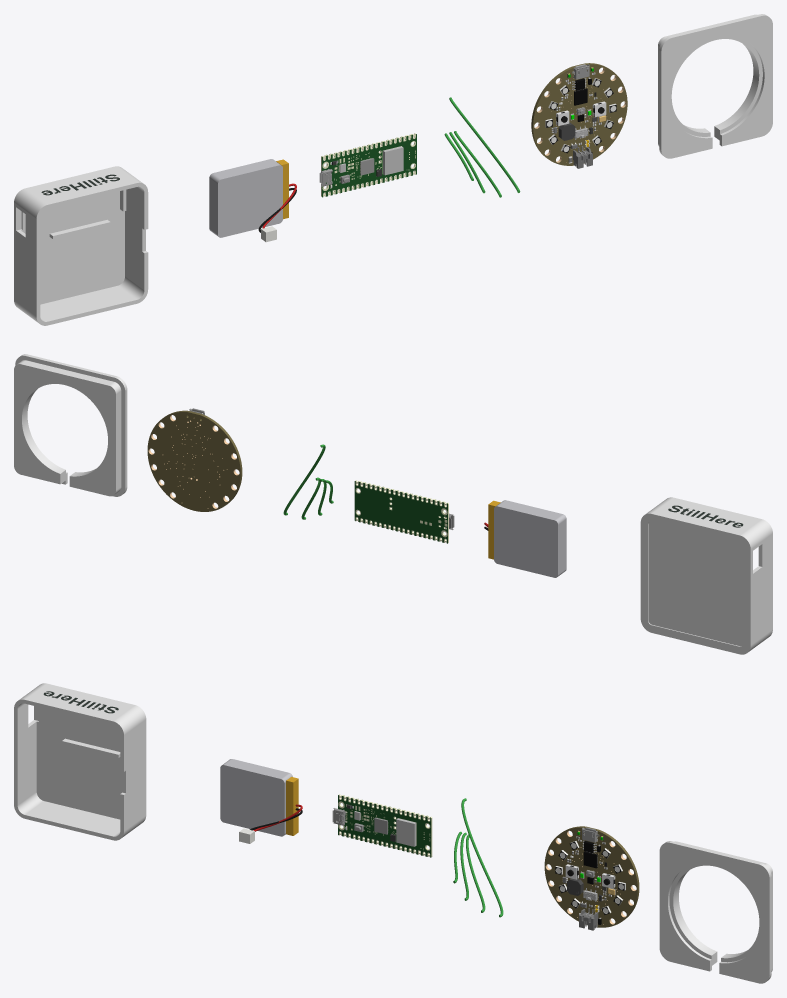
Rendered from StillHere_Exploded.obj.
3 views of the same model, one above another, from view 1: azimuth 30°, elevation 25°; view 2: azimuth 150°, elevation 25°; view 3: azimuth 330°, elevation 25° (orthographic).
Parts seen in each view (by area): view 1: Case_Base, Case_Lid, Body1:11, LiPo_Cell, Body1, Body1:1, Body1:5; view 2: Case_Base, Case_Lid, Body1:11, LiPo_Cell, Body1:2, Body1:1; view 3: Case_Base, Case_Lid, Body1:11, LiPo_Cell, Body1, Body1:1, LiPo_ProtectionBoard, Body1:5.
Boxes of the visible parts, x1,y1,x2,y2 form: Case_Base: [14, 166, 148, 325]; Case_Lid: [658, 14, 772, 158]; Body1:11: [531, 63, 627, 165]; LiPo_Cell: [209, 159, 282, 237]; Body1: [322, 134, 416, 197]; Body1:1: [321, 133, 415, 197]; Body1:5: [383, 146, 403, 175]; Case_Base: [640, 497, 772, 654]; Case_Lid: [14, 354, 127, 496]; Body1:11: [147, 410, 242, 511]; LiPo_Cell: [494, 500, 566, 577]; Body1:2: [354, 481, 447, 543]; Body1:1: [355, 480, 448, 543]; Case_Base: [14, 683, 146, 840]; Case_Lid: [659, 841, 772, 983]; Body1:11: [544, 826, 639, 927]; LiPo_Cell: [220, 759, 292, 836]; Body1: [338, 795, 431, 857]; Body1:1: [338, 794, 432, 857]; LiPo_ProtectionBoard: [286, 777, 298, 835]; Body1:5: [396, 818, 416, 846].
Size of the model in its own units: 40.4 by 6.2 by 2.15.
